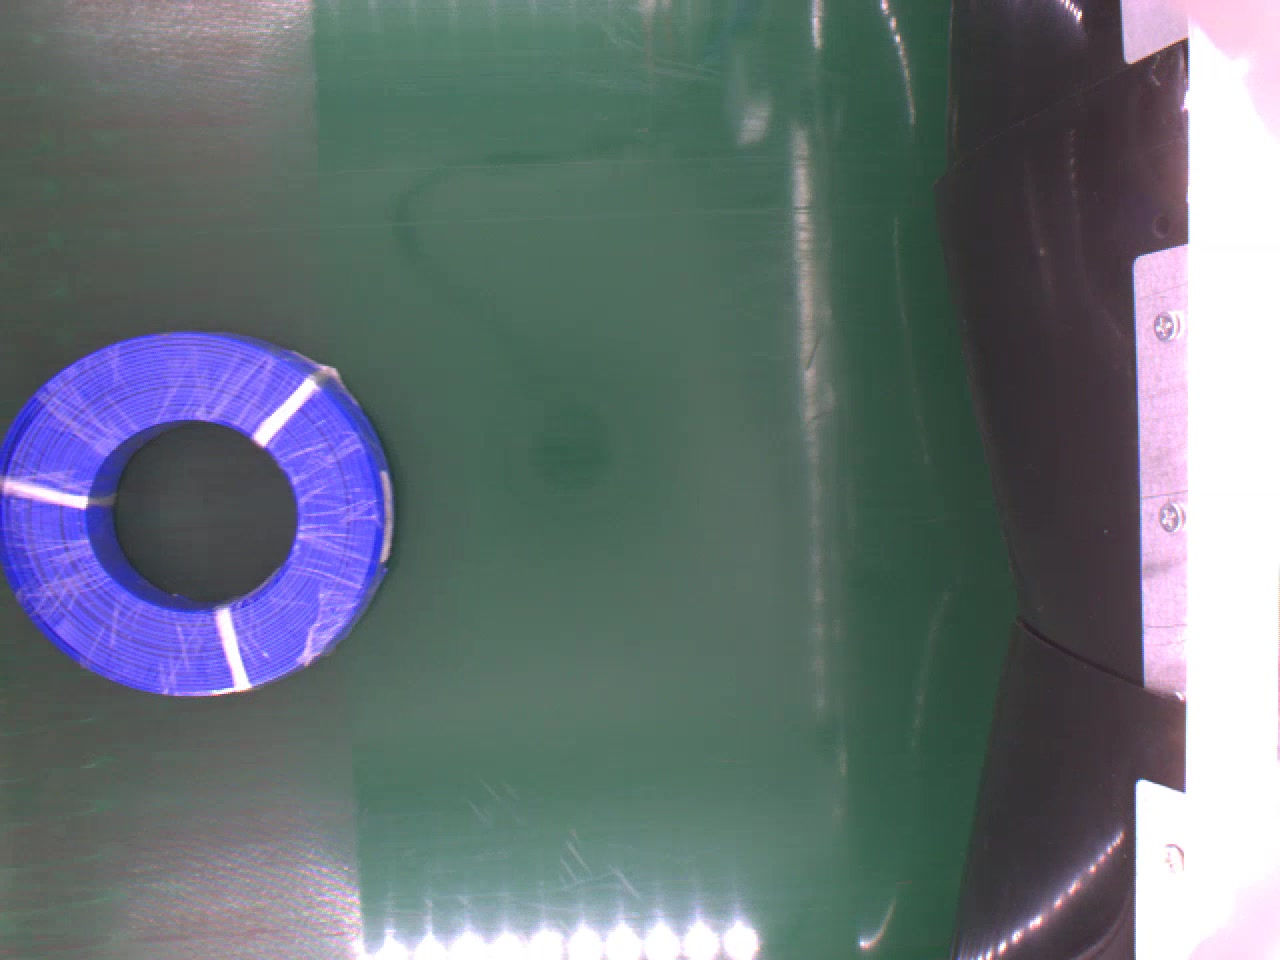blue: (1, 330, 398, 701)
